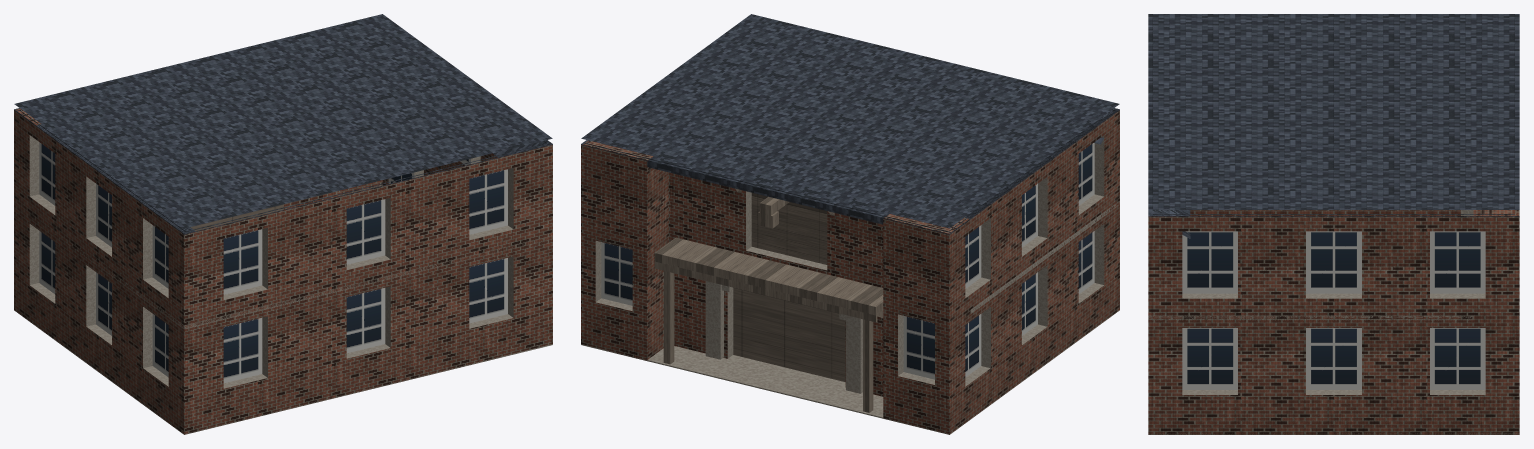
The model's file is bldg-warehouse-wharf-a.glb.
3 renders of one model, left to right at view 1: azimuth 30°, elevation 25°; view 2: azimuth 150°, elevation 25°; view 3: azimuth 270°, elevation 25°, orthographic. The views are drawn at different scales.
Parts seen in each view (by area): view 1: bldg-warehouse-wharf-a; view 2: bldg-warehouse-wharf-a; view 3: bldg-warehouse-wharf-a.
Part boxes in pixels (x1,y1,x2,y2): bldg-warehouse-wharf-a: (14,14,552,434); bldg-warehouse-wharf-a: (581,14,1119,434); bldg-warehouse-wharf-a: (1148,14,1519,434).
Size of the model in its own units: 10 by 5.35 by 8.
6 materials, 6 textured.
